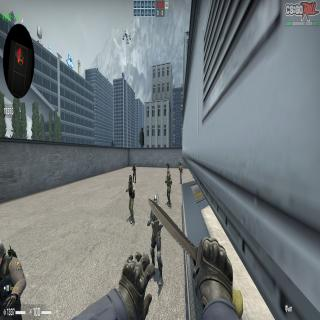CT-Body: (0, 240, 29, 320), (147, 195, 165, 288), (126, 174, 135, 224), (165, 170, 172, 208), (132, 162, 136, 184), (178, 159, 182, 166)
CT-Head: (0, 240, 7, 268), (153, 195, 158, 207), (129, 174, 132, 183), (167, 170, 170, 176), (133, 162, 135, 166), (180, 159, 180, 162)
T-Body: (179, 164, 183, 184), (167, 161, 170, 170)
T-Head: (180, 164, 181, 167), (168, 161, 168, 164)
